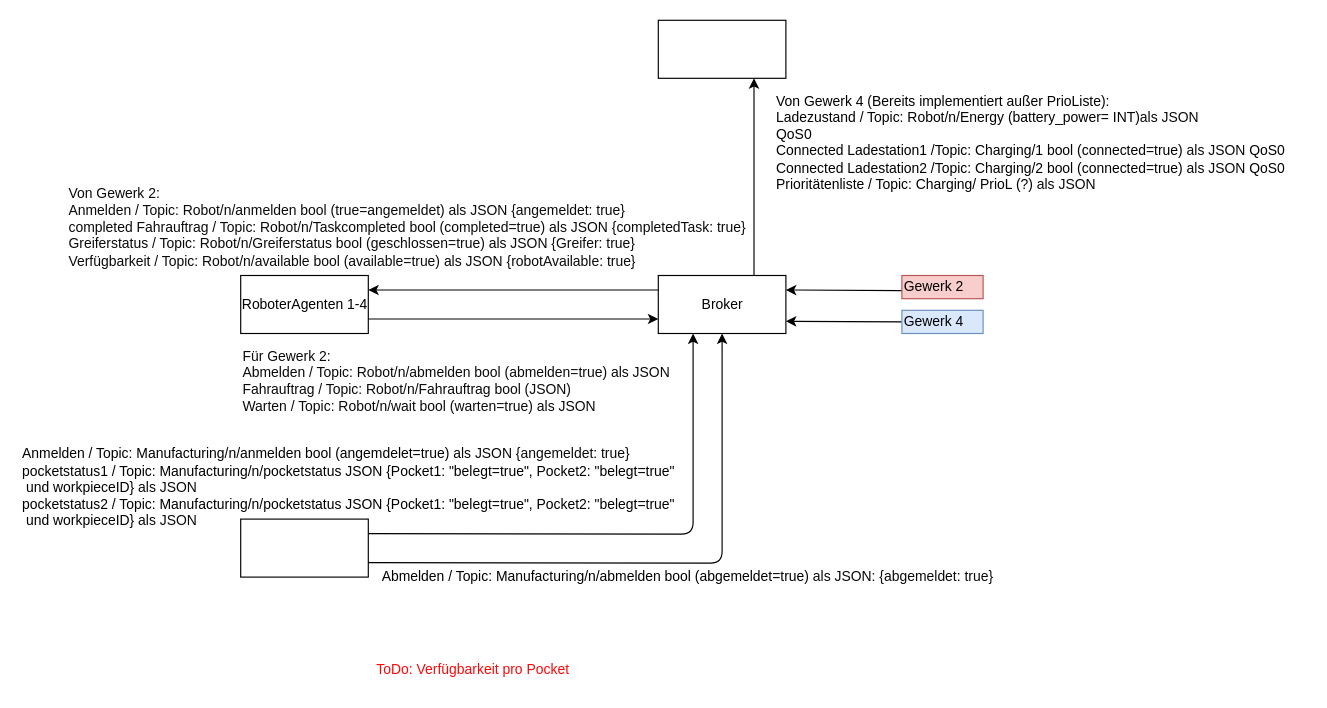
The diagram is 1327 pixels wide and 708 high, and some of its shapes have lost their labels. Each missing label, with the centre of its shape:
Manufacturing 1...n: point (304, 547)
Supervisior: point (721, 48)
